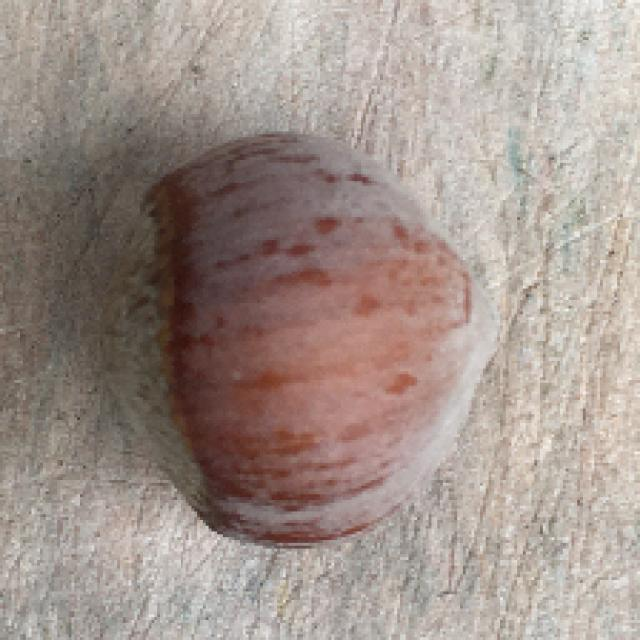qualityHazelnut: (92, 132, 507, 558)
